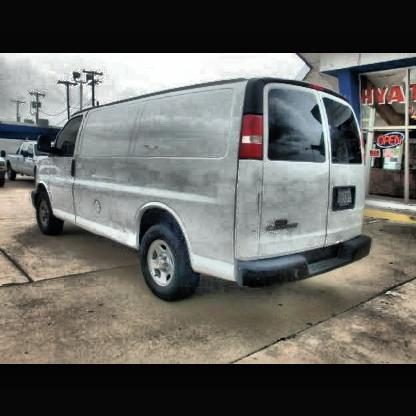Chevrolet Express Cargo Van 2007: (35, 79, 372, 303)
